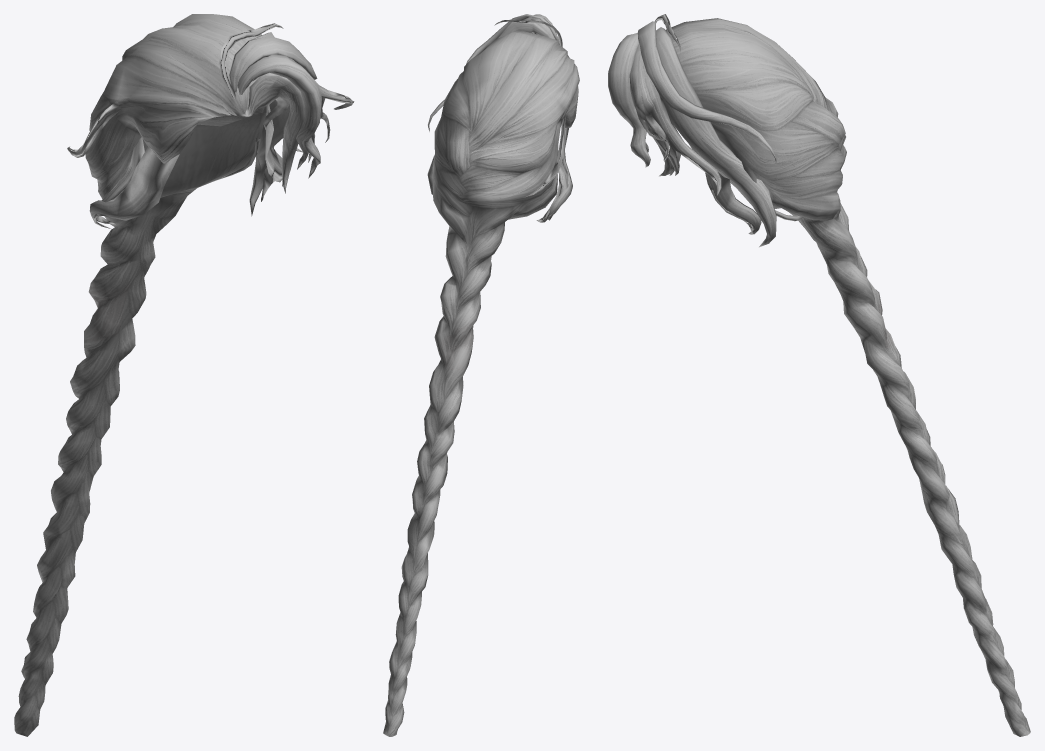
File: hair3.glb
3 renders of one model, left to right at view 1: azimuth 30°, elevation 25°; view 2: azimuth 150°, elevation 25°; view 3: azimuth 270°, elevation 25°, orthographic. The views are drawn at different scales.
Visible parts, largest first — view 1: hair4; view 2: hair4; view 3: hair4.
Boxes of the visible parts, x1=… form: hair4: x1=14, y1=14, x2=354, y2=736; hair4: x1=383, y1=14, x2=579, y2=736; hair4: x1=608, y1=14, x2=1030, y2=736.
Bounding box in the file's own units: 20.49 × 83.59 × 44.59.
Materials: 1 (1 with a texture image).
